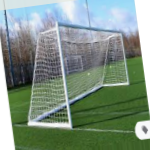goals: (25, 19, 132, 134)
